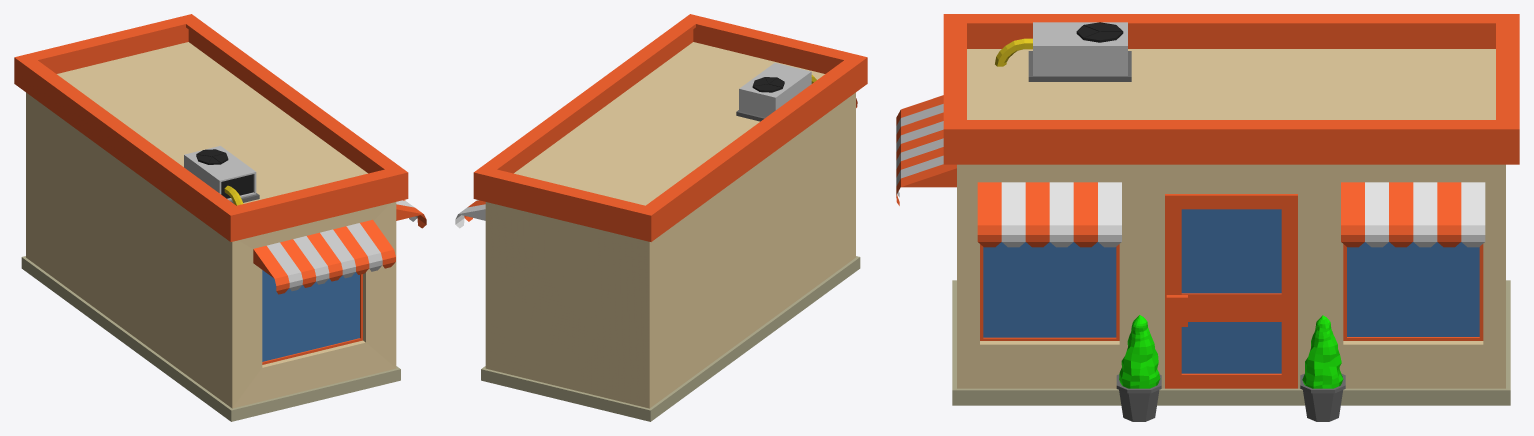
File: house1.fbx
The picture shows the model from 3 angles, left to right: view 1: azimuth 30°, elevation 25°; view 2: azimuth 150°, elevation 25°; view 3: azimuth 270°, elevation 25°; orthographic projection. The views are drawn at different scales.
Parts seen in each view (by area): view 1: casa, tetto, tetto.001, finestra.005, pavimento, tenda.003, tenda.001, scatola, finestra, scatola.001, tenda.004; view 2: casa, tetto, tetto.001, pavimento, scatola, tenda.007; view 3: casa, tetto, tetto.001, vetro porta.001, finestra.006, finestra.003, porta, pavimento, tenda.004, tenda, tenda.006, tenda.007 (+11 smaller).
Part boxes in pixels (x1=…): casa: x1=26, y1=92, x2=396, y2=408; tetto: x1=14, y1=14, x2=408, y2=241; tetto.001: x1=57, y1=42, x2=367, y2=203; finestra.005: x1=262, y1=270, x2=359, y2=361; pavimento: x1=21, y1=256, x2=400, y2=421; tenda.003: x1=253, y1=219, x2=395, y2=294; tenda.001: x1=267, y1=223, x2=382, y2=291; scatola: x1=184, y1=146, x2=256, y2=200; finestra: x1=262, y1=274, x2=362, y2=364; scatola.001: x1=221, y1=174, x2=253, y2=198; tenda.004: x1=396, y1=200, x2=426, y2=228; casa: x1=485, y1=92, x2=855, y2=408; tetto: x1=473, y1=14, x2=867, y2=241; tetto.001: x1=514, y1=42, x2=824, y2=205; pavimento: x1=481, y1=256, x2=860, y2=421; scatola: x1=739, y1=62, x2=811, y2=117; tenda.007: x1=455, y1=200, x2=485, y2=228; casa: x1=957, y1=164, x2=1505, y2=388; tetto: x1=943, y1=14, x2=1519, y2=164; tetto.001: x1=967, y1=49, x2=1495, y2=119; vetro porta.001: x1=1181, y1=209, x2=1281, y2=373; finestra.006: x1=983, y1=242, x2=1116, y2=337; finestra.003: x1=1347, y1=242, x2=1479, y2=336; porta: x1=1165, y1=194, x2=1297, y2=388; pavimento: x1=952, y1=280, x2=1510, y2=405; tenda.004: x1=977, y1=182, x2=1097, y2=247; tenda: x1=1001, y1=182, x2=1121, y2=247; tenda.006: x1=1341, y1=182, x2=1461, y2=247; tenda.007: x1=1365, y1=182, x2=1485, y2=247.
Size of the model in its own units: 382 by 378 by 742.
